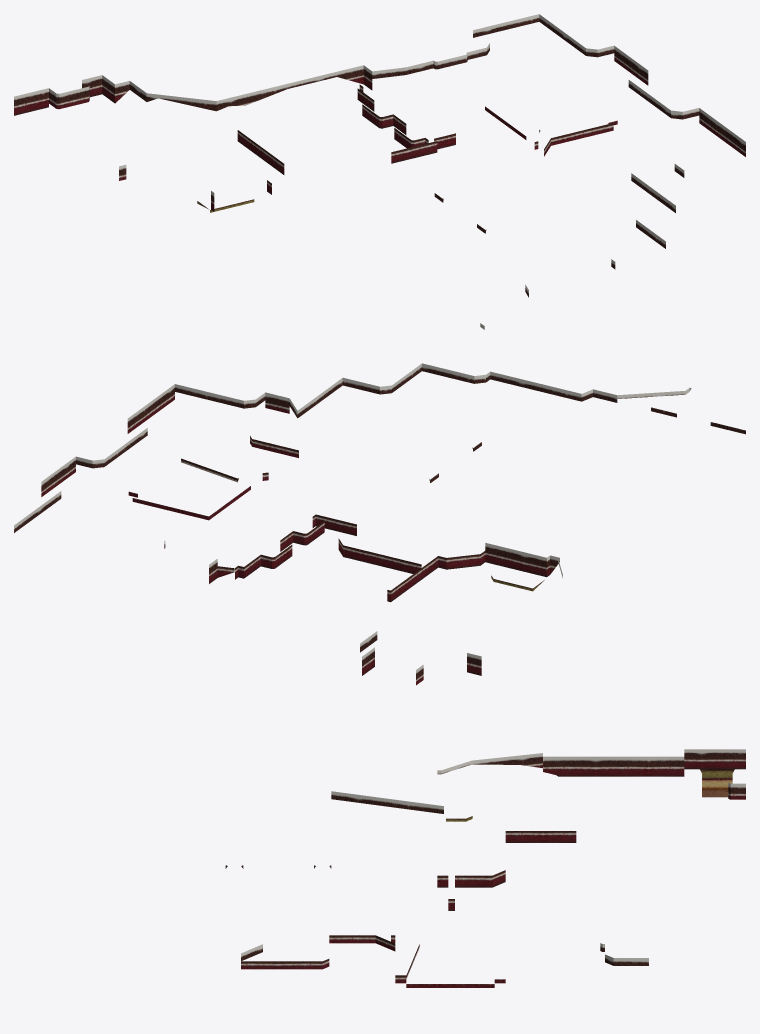
Rendered from ground.glb.
The picture shows the model from 3 angles, top to bottom: view 1: azimuth 30°, elevation 25°; view 2: azimuth 150°, elevation 25°; view 3: azimuth 270°, elevation 25°; orthographic projection. The views are drawn at different scales.
Visible parts, largest first — view 1: ground_rim; view 2: ground_rim; view 3: ground_rim.
Part boxes in pixels (left/top/right/bottom): ground_rim: left=14, top=14, right=745, bottom=329; ground_rim: left=14, top=363, right=745, bottom=685; ground_rim: left=225, top=749, right=745, bottom=987.
Size of what is drawn, in the model's own units: 109 by 9.6 by 133.
Materials: 1 (1 with a texture image).
